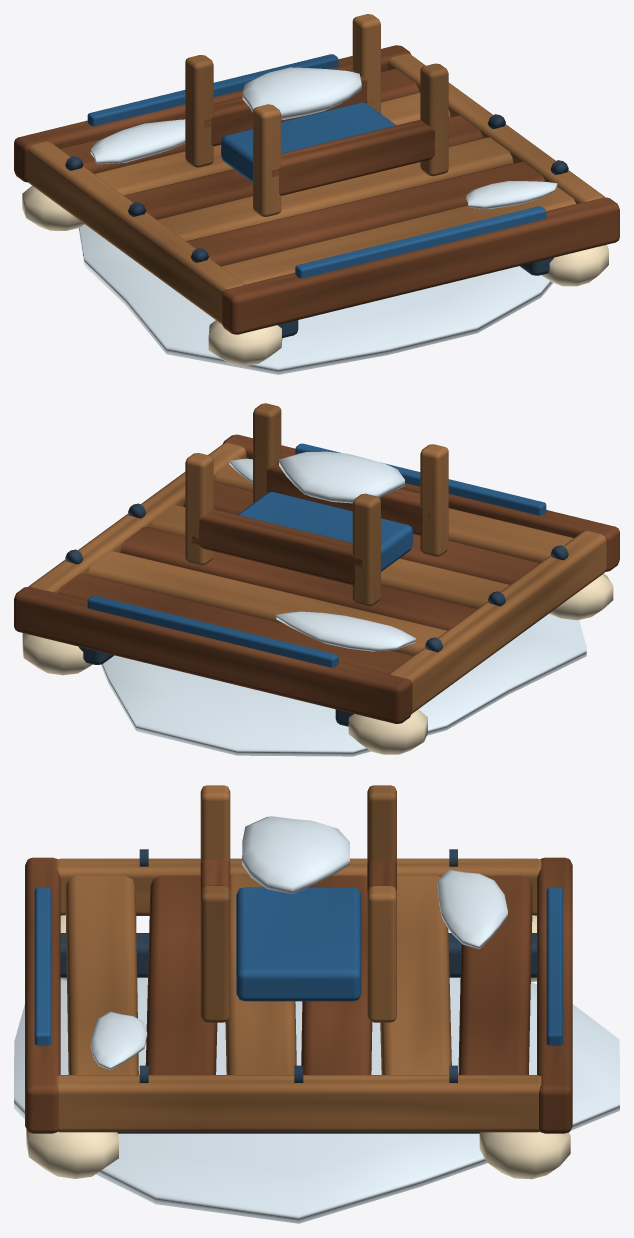
Rendered from pad_stock.glb.
3 views of the same model, one above another, from view 1: azimuth 30°, elevation 25°; view 2: azimuth 150°, elevation 25°; view 3: azimuth 270°, elevation 25° (orthographic). The views are drawn at different scales.
Visible parts, largest first — view 1: pad_stock; view 2: pad_stock; view 3: pad_stock.
Boxes of the visible parts, x1,y1,x2,y2 form: pad_stock: [14, 14, 619, 374]; pad_stock: [14, 403, 619, 756]; pad_stock: [14, 785, 619, 1223].
Size of the model in its own units: 2.14 by 0.97 by 2.04.
